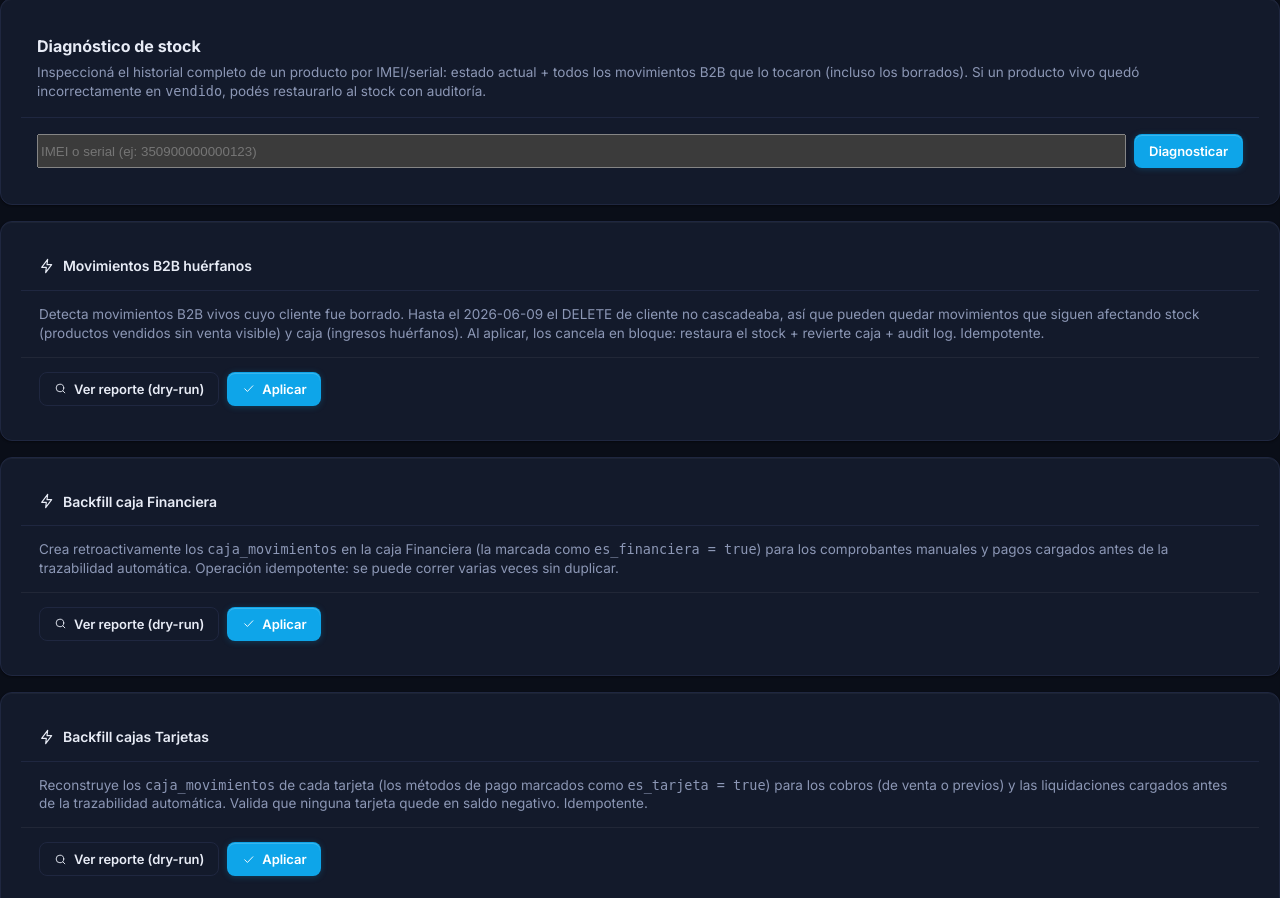
Scenario: MantenimientoSection — dos paneles paralelos › Tarjetas: flow completo report → apply muestra "Aplicado"
This screenshot has width=1280, height=898.
Click the button "Ver reporte (dry-run)" below "Reconstruye los": [129, 859] box x1=39 y1=842 x2=219 y2=876
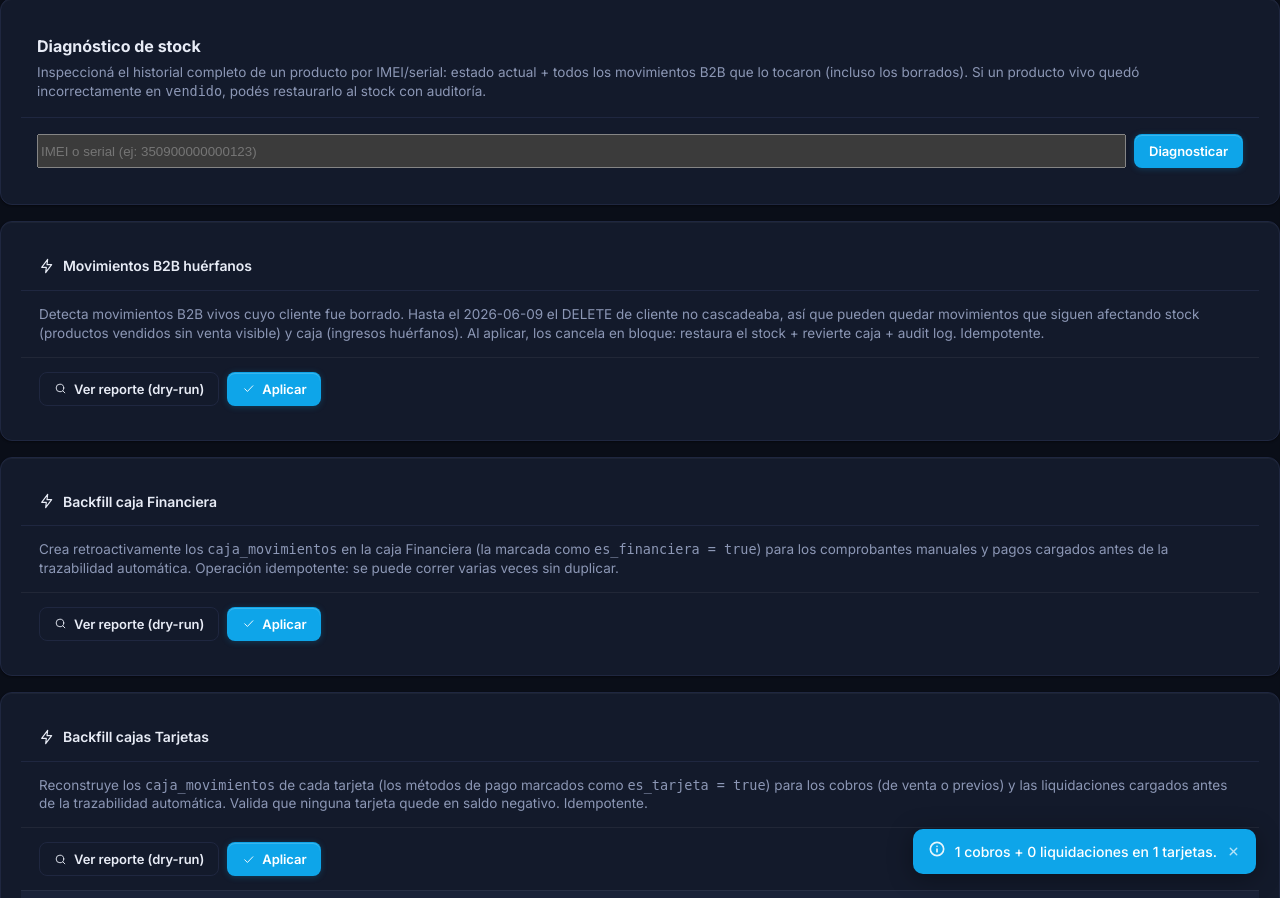
Click the button "Aplicar" below "Reconstruye los": [274, 859] box x1=227 y1=842 x2=322 y2=876
(page scrolled)
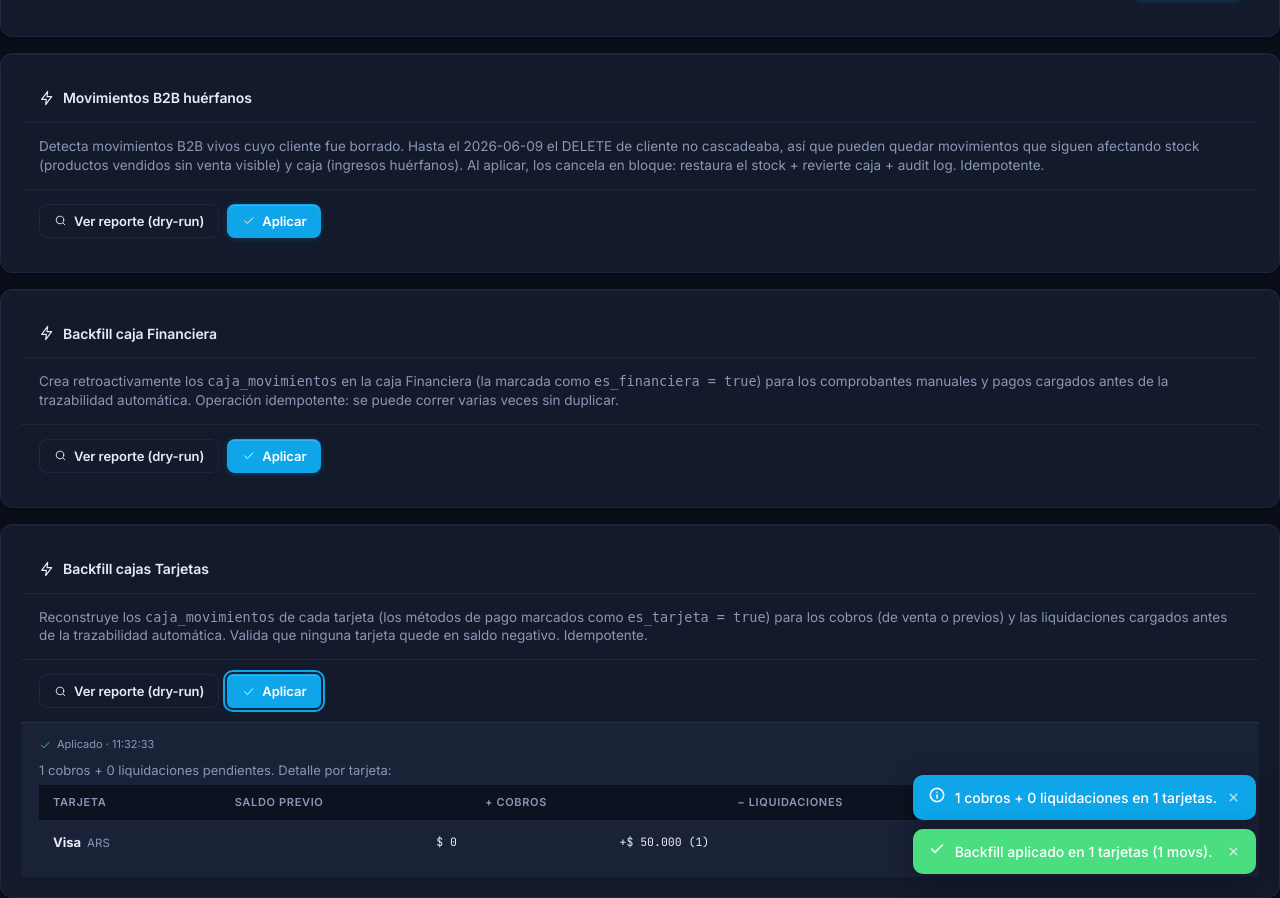
Check: the text "Aplicado · 11:32:33" is shown, box x1=39 y1=737 x2=154 y2=751
